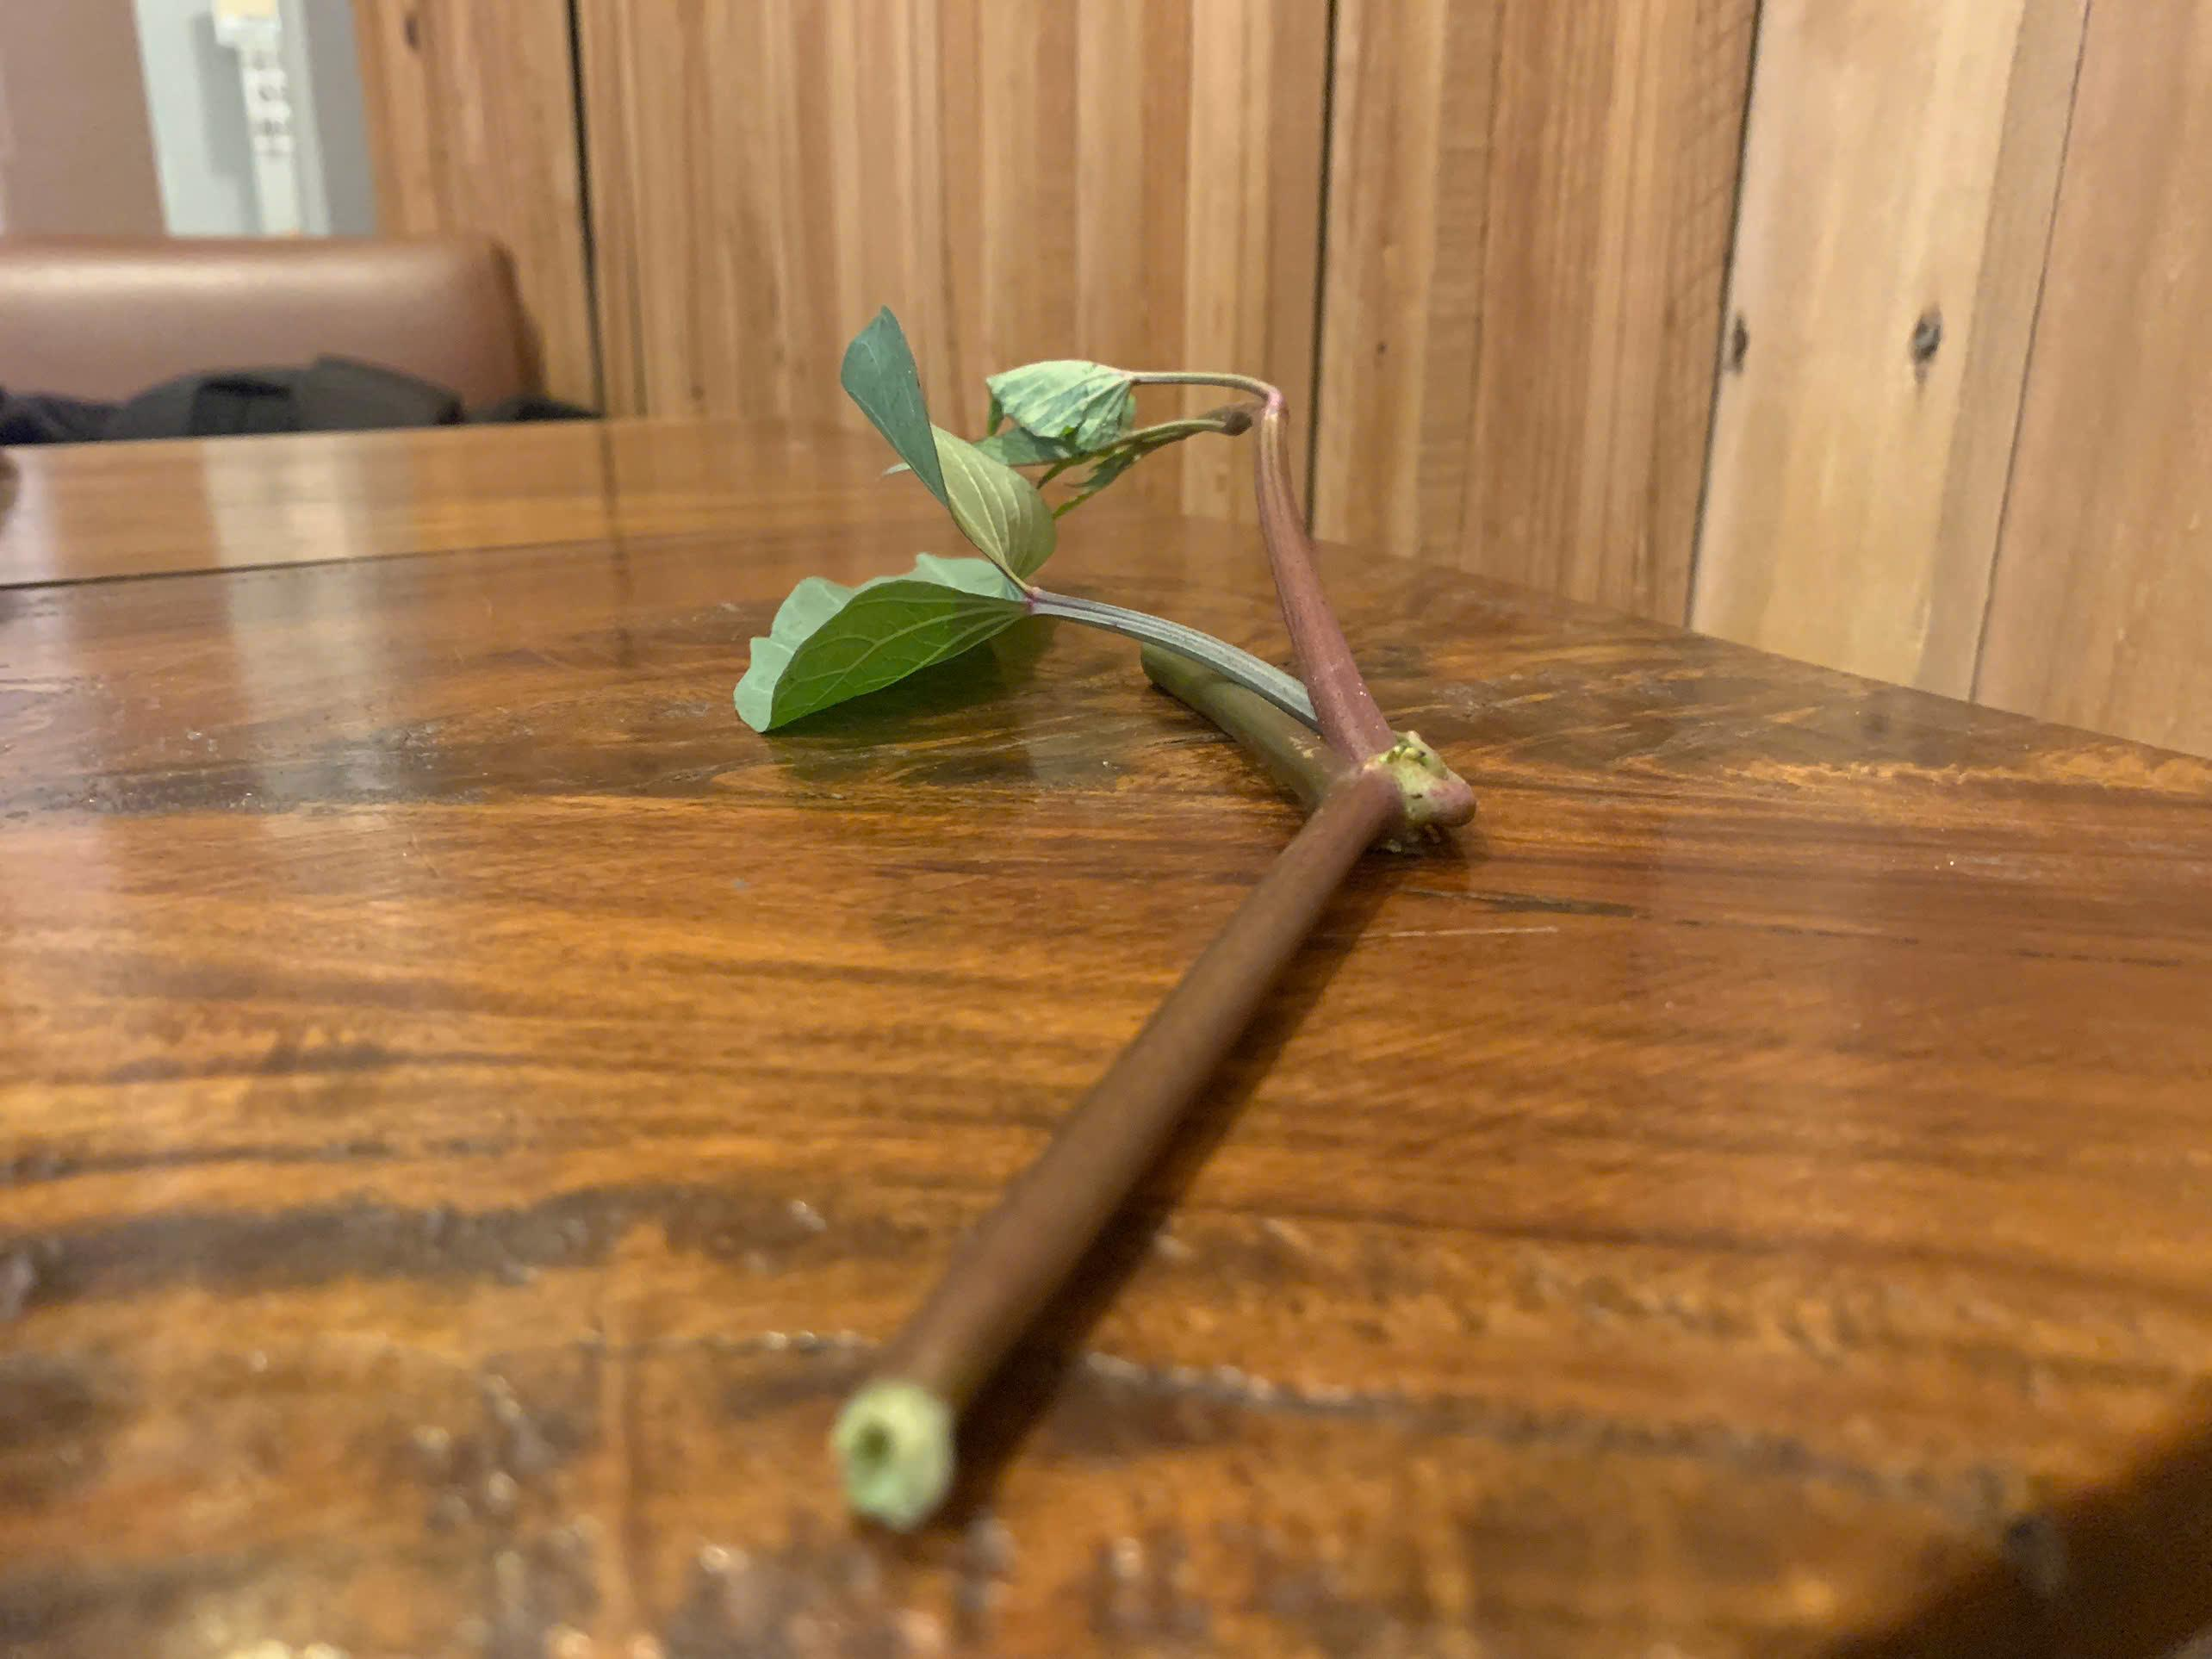Huu co: (730, 301, 1475, 1511)
